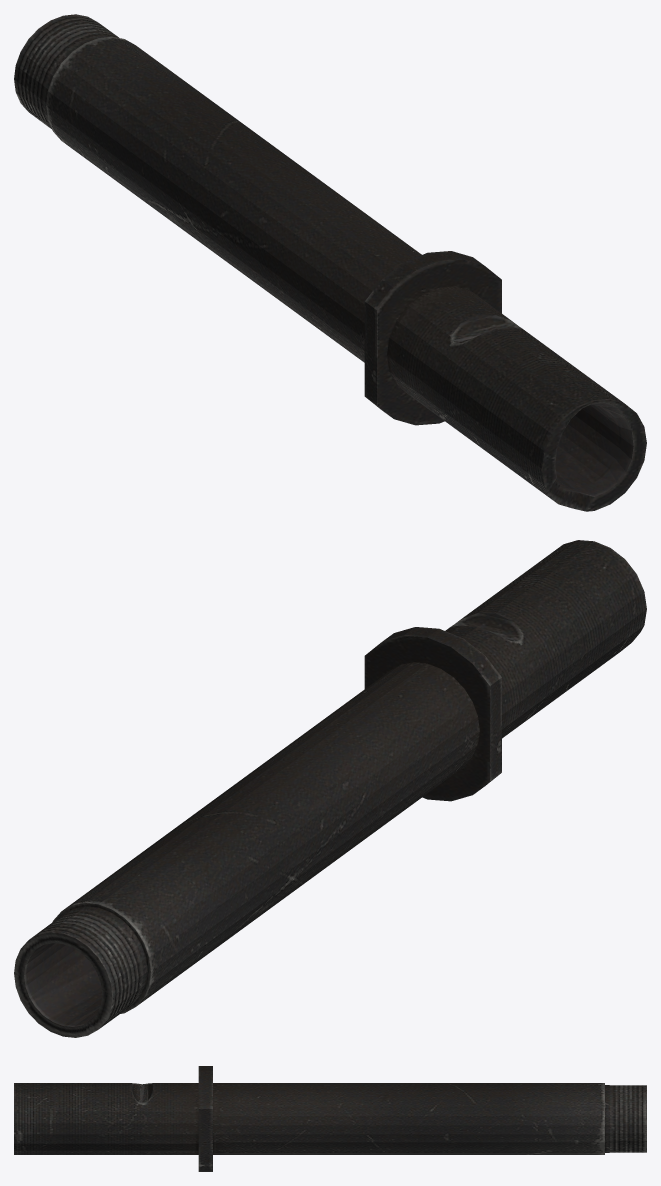
3 renders of one model, top to bottom at view 1: azimuth 30°, elevation 25°; view 2: azimuth 150°, elevation 25°; view 3: azimuth 270°, elevation 25°, orthographic. The views are drawn at different scales.
Visible parts, largest first — view 1: TW_5fb65363d1409e5ca04b54f5_PZ_Import; view 2: TW_5fb65363d1409e5ca04b54f5_PZ_Import; view 3: TW_5fb65363d1409e5ca04b54f5_PZ_Import.
Part boxes in pixels (left/top/right/bottom): TW_5fb65363d1409e5ca04b54f5_PZ_Import: left=14, top=14, right=646, bottom=511; TW_5fb65363d1409e5ca04b54f5_PZ_Import: left=14, top=540, right=646, bottom=1037; TW_5fb65363d1409e5ca04b54f5_PZ_Import: left=14, top=1066, right=646, bottom=1171.
Size of the model in its own units: 0.0111 by 0.0817 by 0.0138.
Materials: 1 (1 with a texture image).
